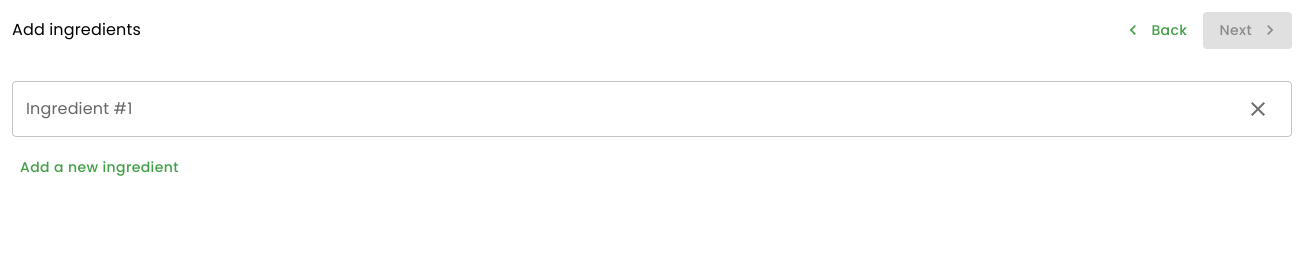
Test: Ingredients Component › should add a new ingredient field when "Add a new ingredient" button is clicked
Click the button "Add a new ingredient" at (99, 167), box [12,148,187,185]
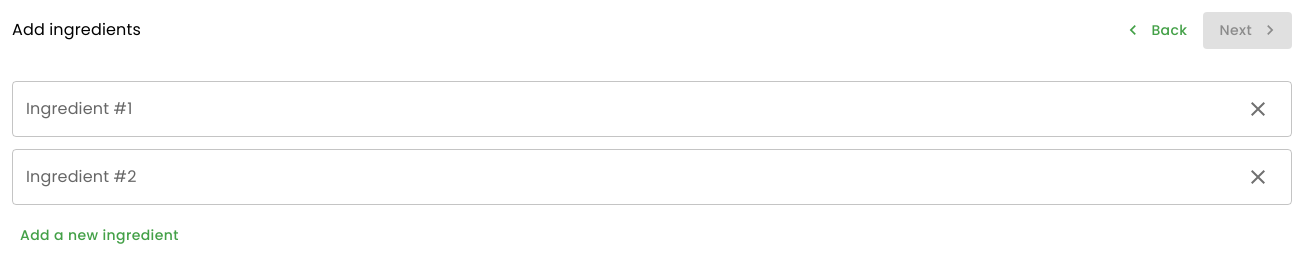
expect the field labelled "Ingredient #2" is shown: met, box [12,148,1238,204]
